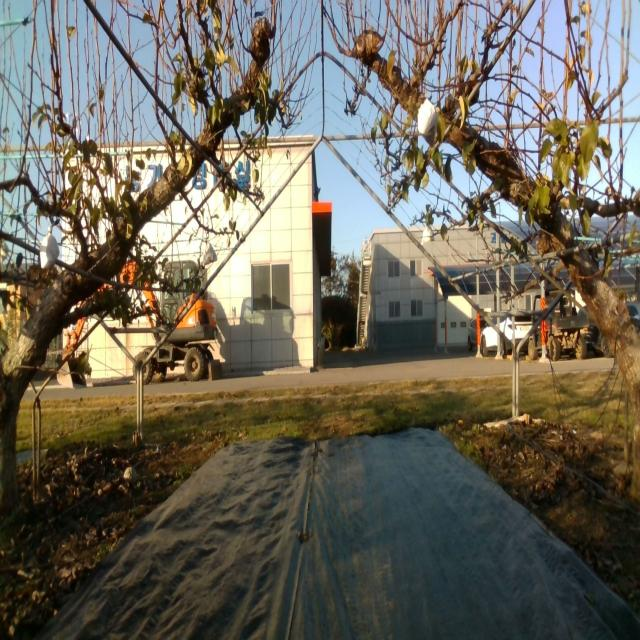pearbags: (417, 98, 438, 149), (39, 224, 61, 272), (203, 240, 217, 266), (420, 224, 434, 247)
